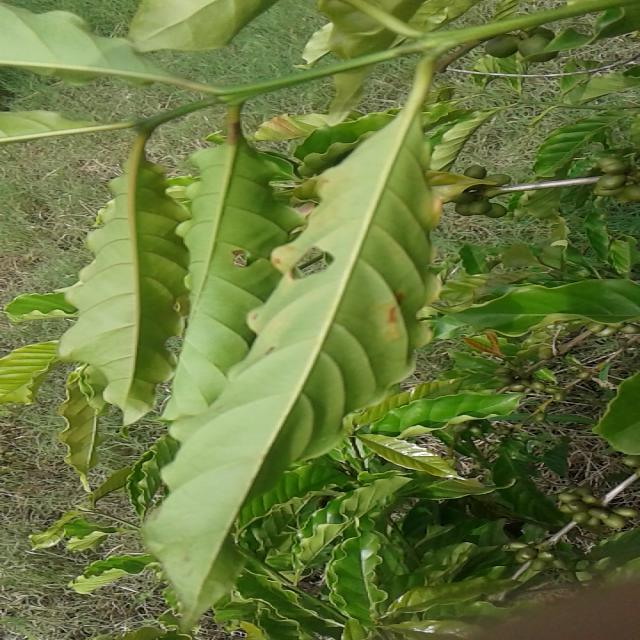Enfermedad-Roya: (144, 70, 475, 610)
